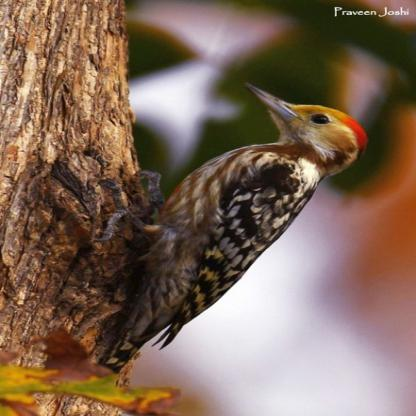Burung: (105, 81, 366, 370)
